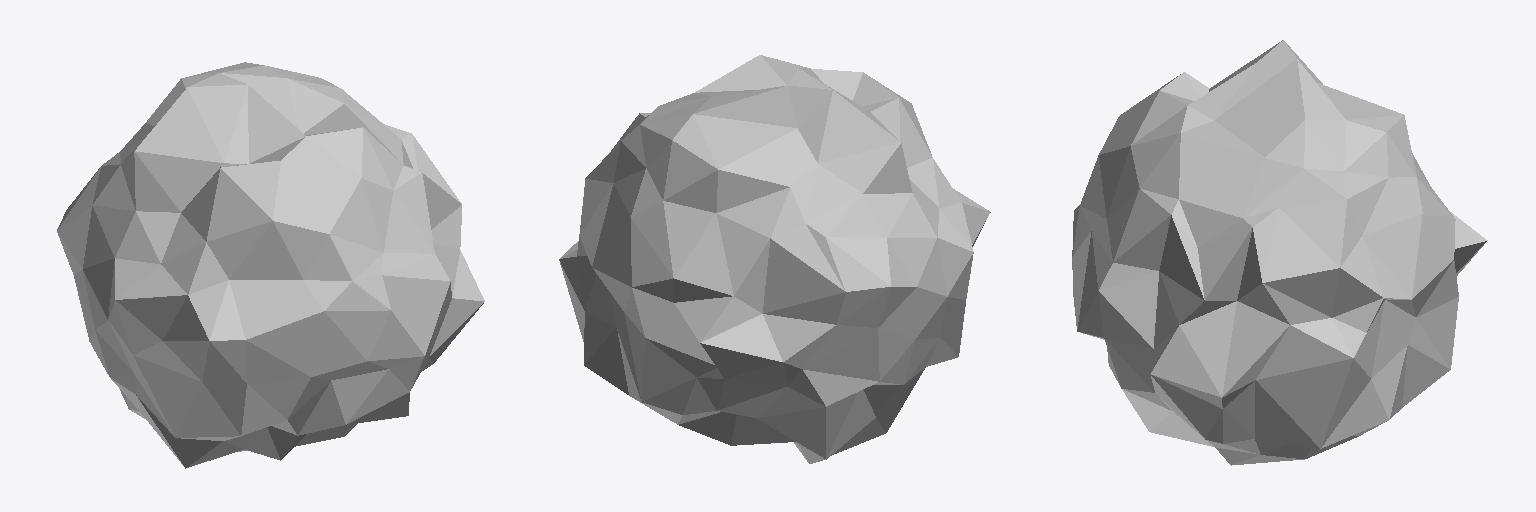
File: fire_000027.obj
The picture shows the model from 3 angles: view 1: azimuth 30°, elevation 25°; view 2: azimuth 150°, elevation 25°; view 3: azimuth 270°, elevation 25°; orthographic projection.
Visible parts, largest first — view 1: Icosphere; view 2: Icosphere; view 3: Icosphere.
Part boxes in pixels (left/top/right/bottom): Icosphere: left=57, top=62, right=484, bottom=468; Icosphere: left=559, top=55, right=990, bottom=463; Icosphere: left=1072, top=40, right=1487, bottom=465.
Size of the model in its own units: 1.34 by 1.36 by 1.39.